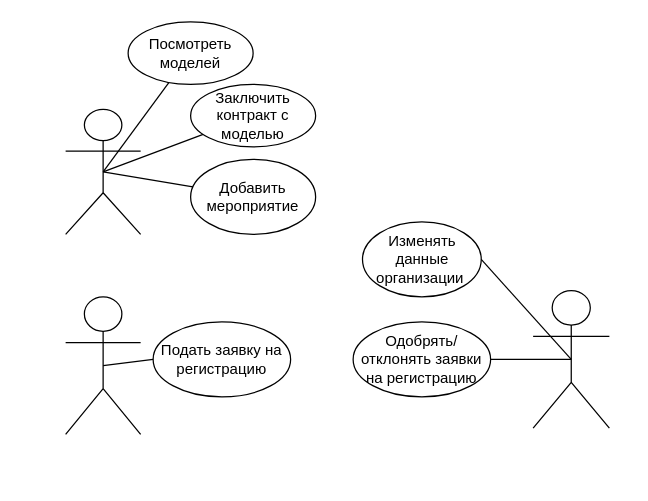
The diagram is 648 pixels wide and 501 high, and some of its shapes have lost their labels. The centre of each missing label's shape, as x and y in pixels:
Администратор: the point at 570,358
зарегистрированная организация-заказчик: the point at 102,171
не зарегистрированная организация-заказчик: the point at 102,365
